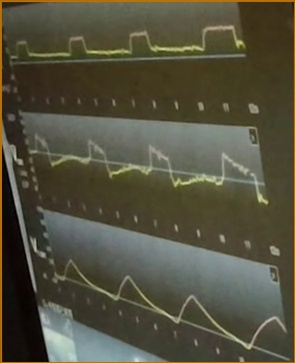Accumulation Flow: (28, 131, 268, 208)
Volume: (55, 256, 283, 350)
